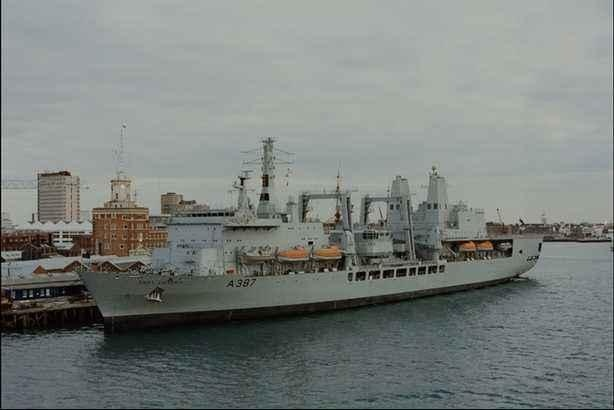warship: (75, 138, 546, 341)
